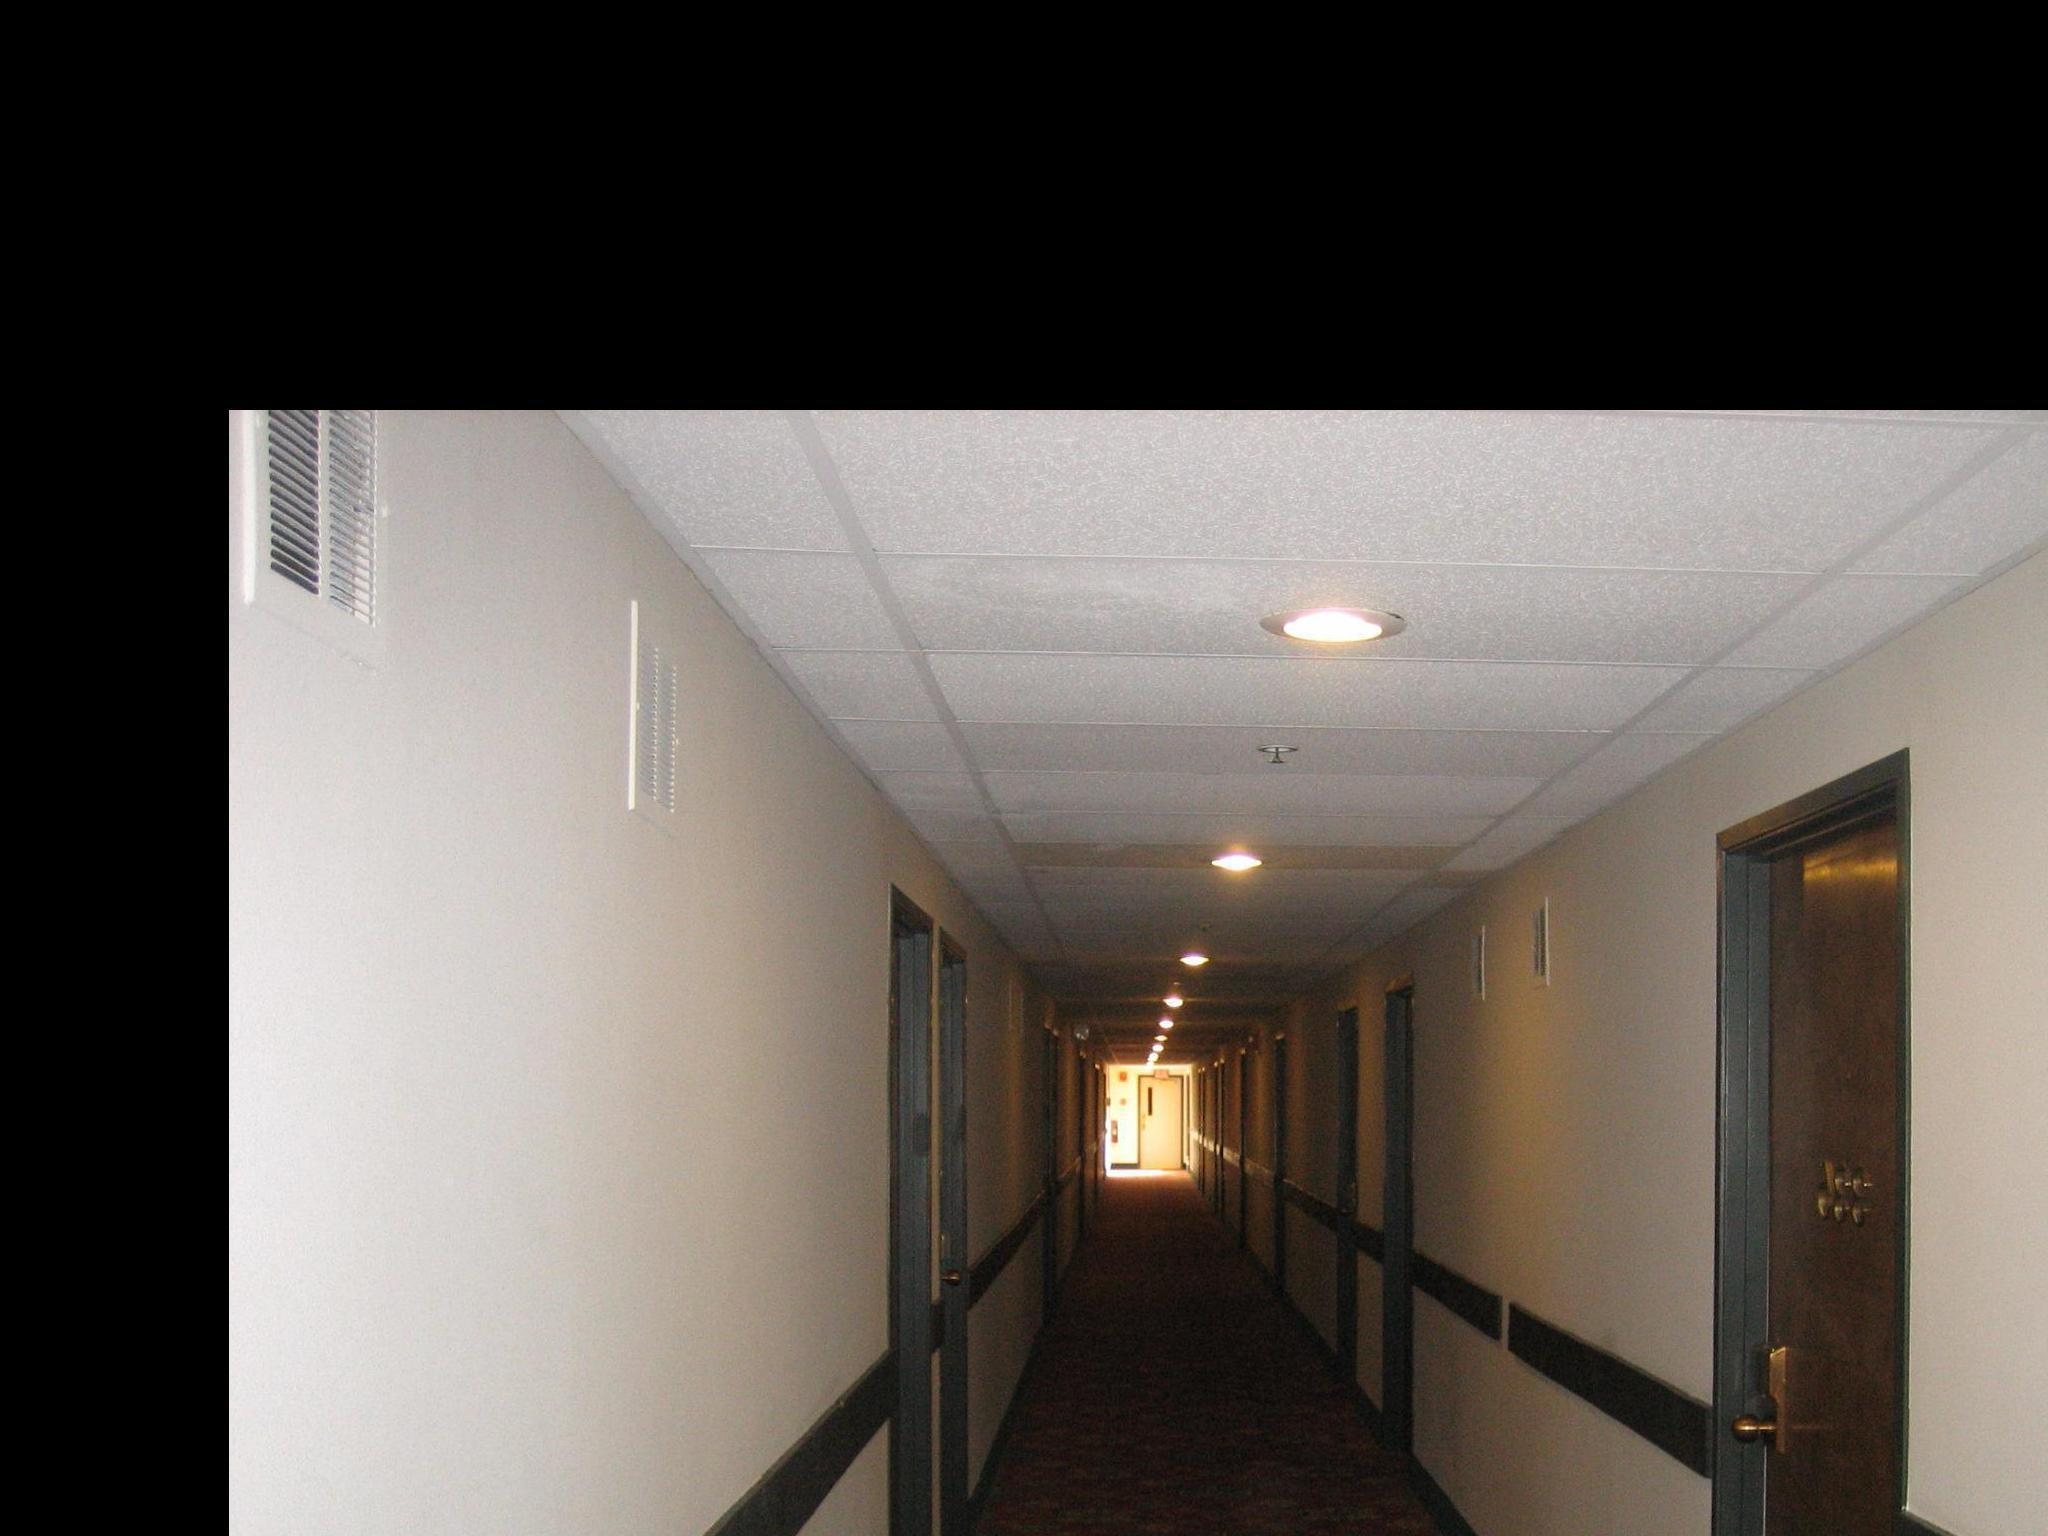Puerta: (1738, 824, 1904, 1536), (877, 929, 942, 1536), (934, 942, 969, 1536), (1384, 979, 1413, 1449)
